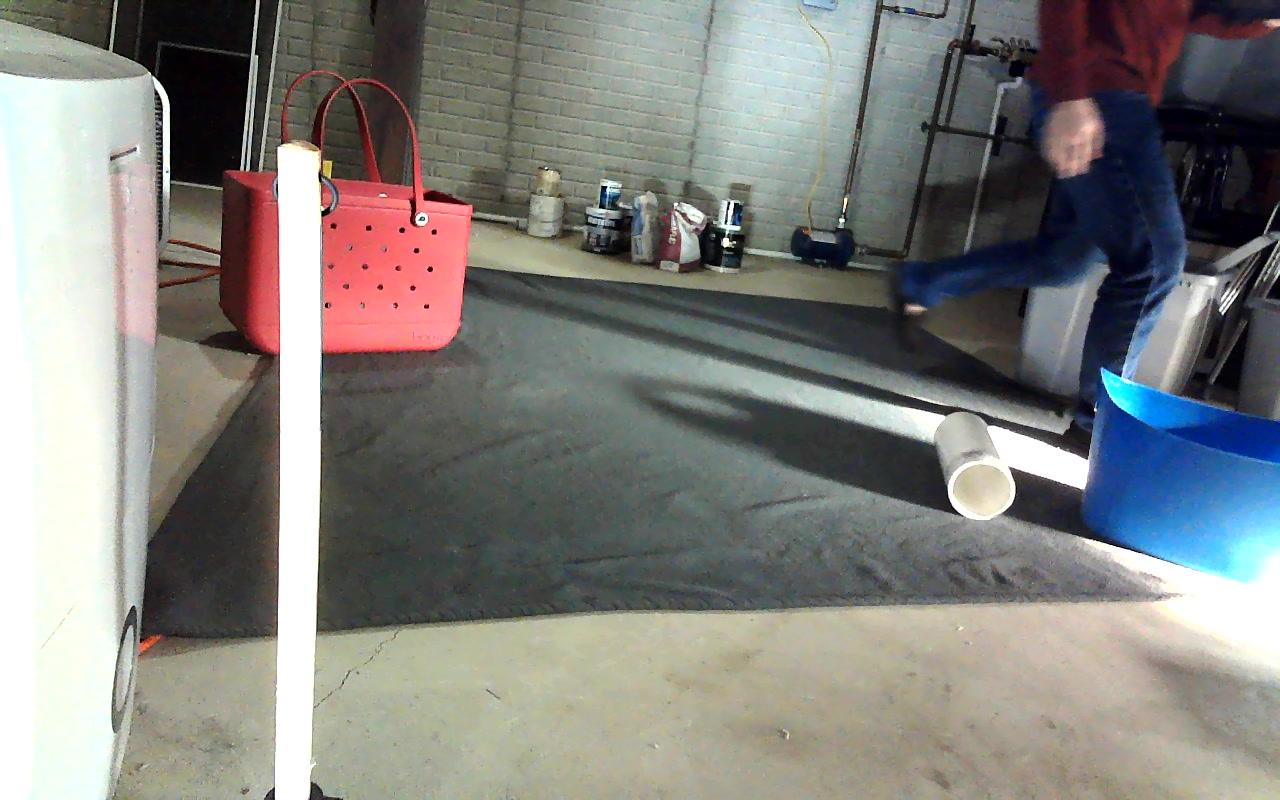coral: (935, 411, 1016, 519)
